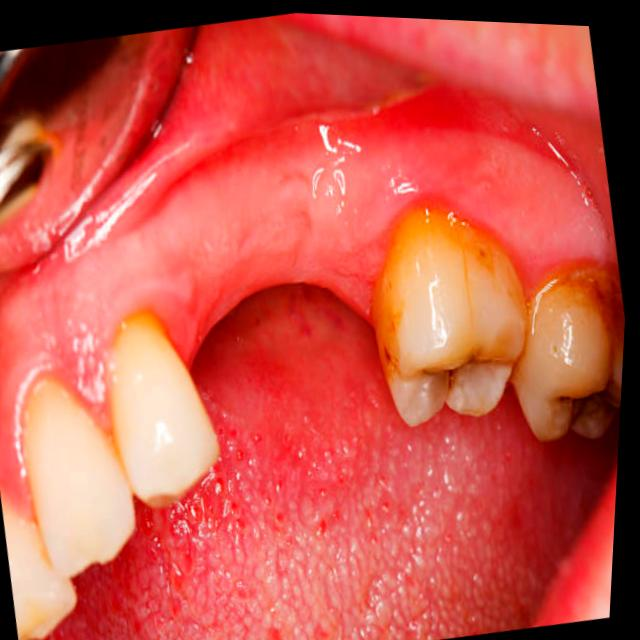cariess: (396, 291, 509, 418), (543, 357, 611, 440)
gingivitis: (0, 96, 616, 420)
